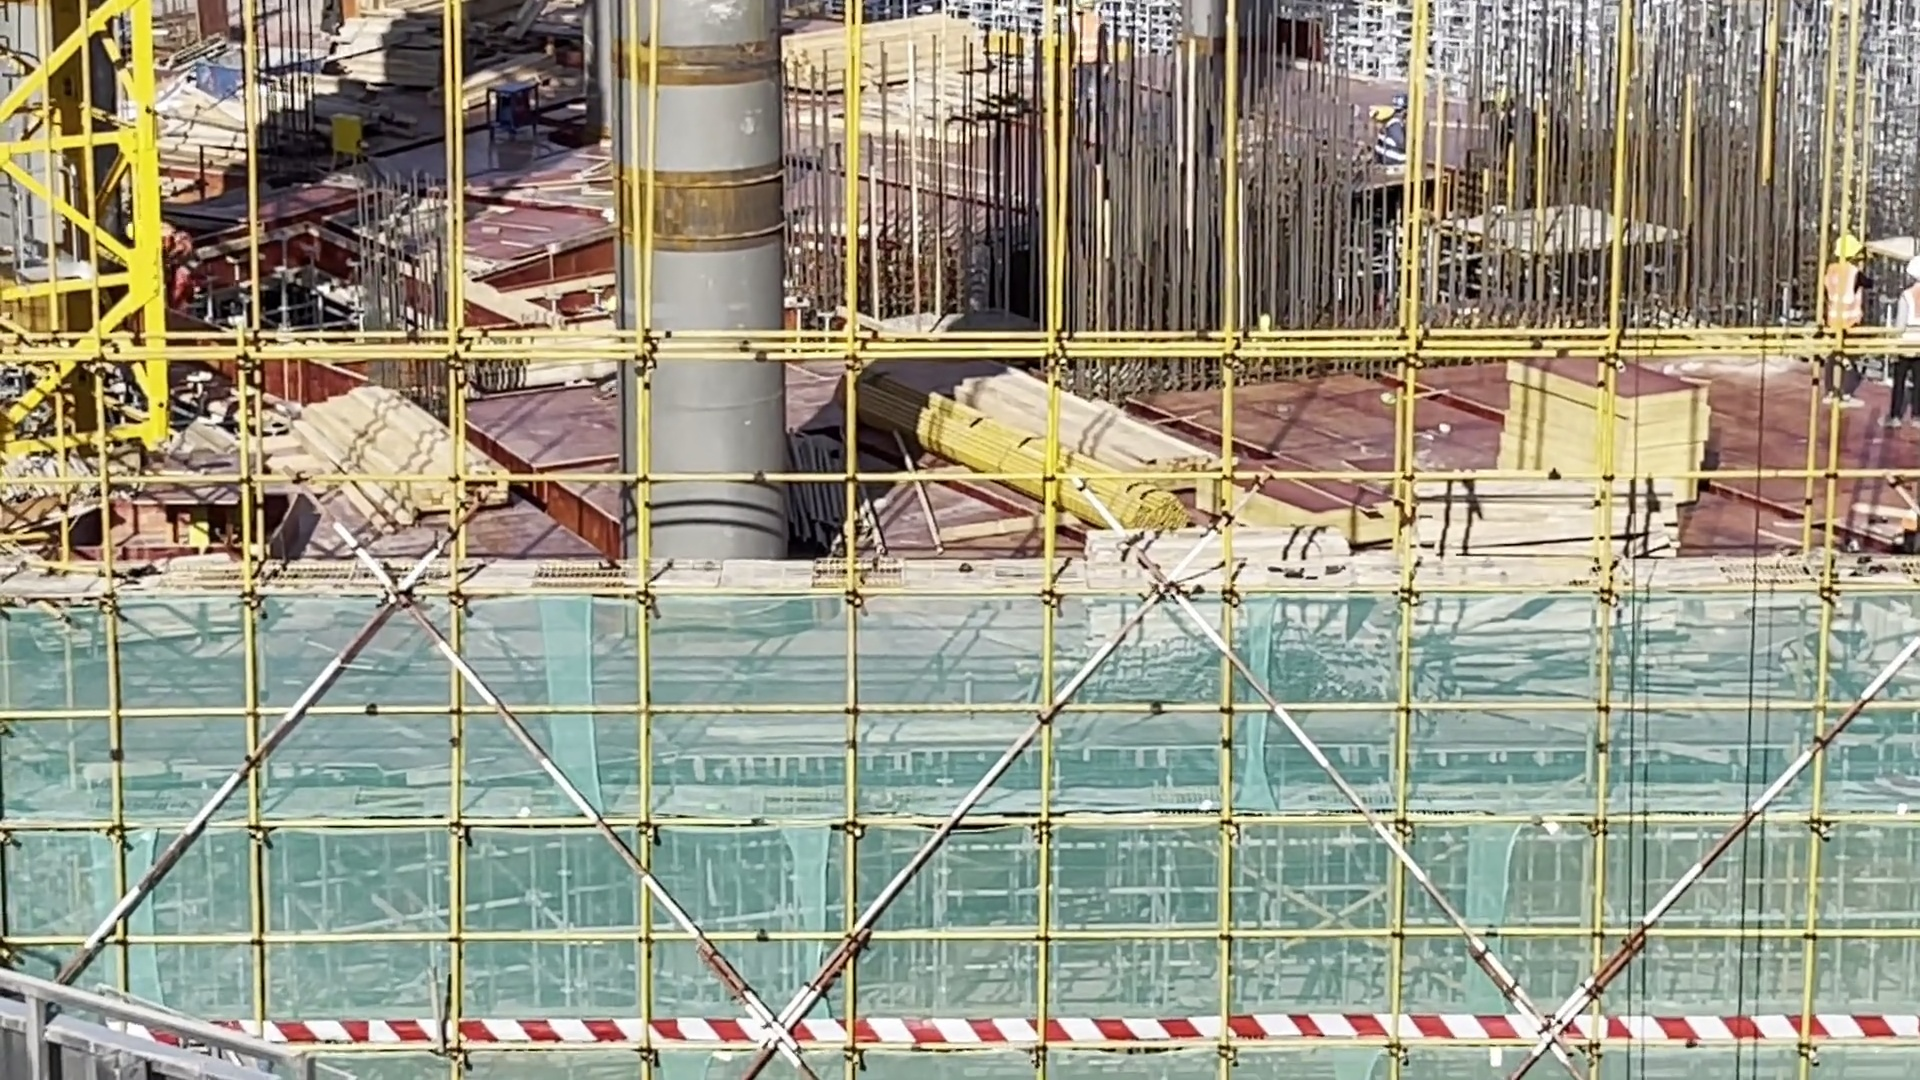helmet: (1393, 85, 1417, 112), (1490, 82, 1521, 104), (1831, 227, 1853, 256), (1903, 261, 1919, 281)
person: (1808, 225, 1868, 383), (123, 201, 201, 312), (1869, 250, 1920, 420), (1494, 81, 1572, 155), (1359, 95, 1434, 163), (1070, 1, 1111, 118)
vest: (1818, 265, 1858, 335), (161, 218, 197, 272), (1379, 116, 1425, 156), (1527, 110, 1569, 137), (1082, 14, 1105, 63), (1907, 288, 1920, 349)
